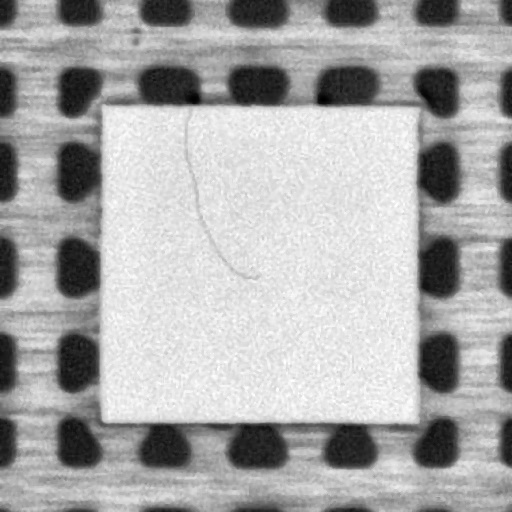DIE_CRACK: (180, 104, 262, 285)
